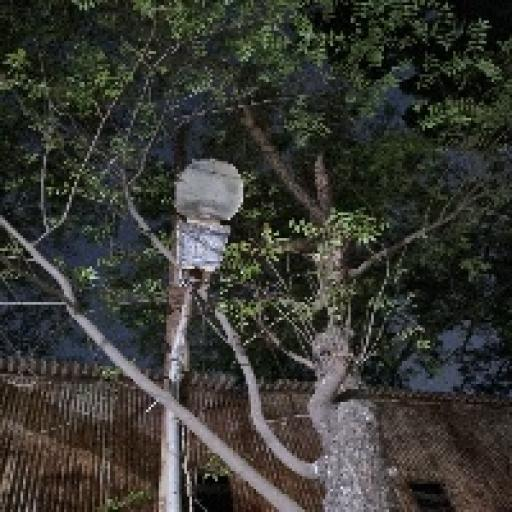Not Working: (139, 142, 275, 302)
